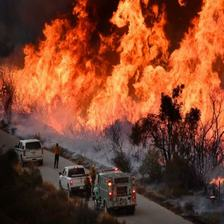fire: (3, 8, 221, 134)
